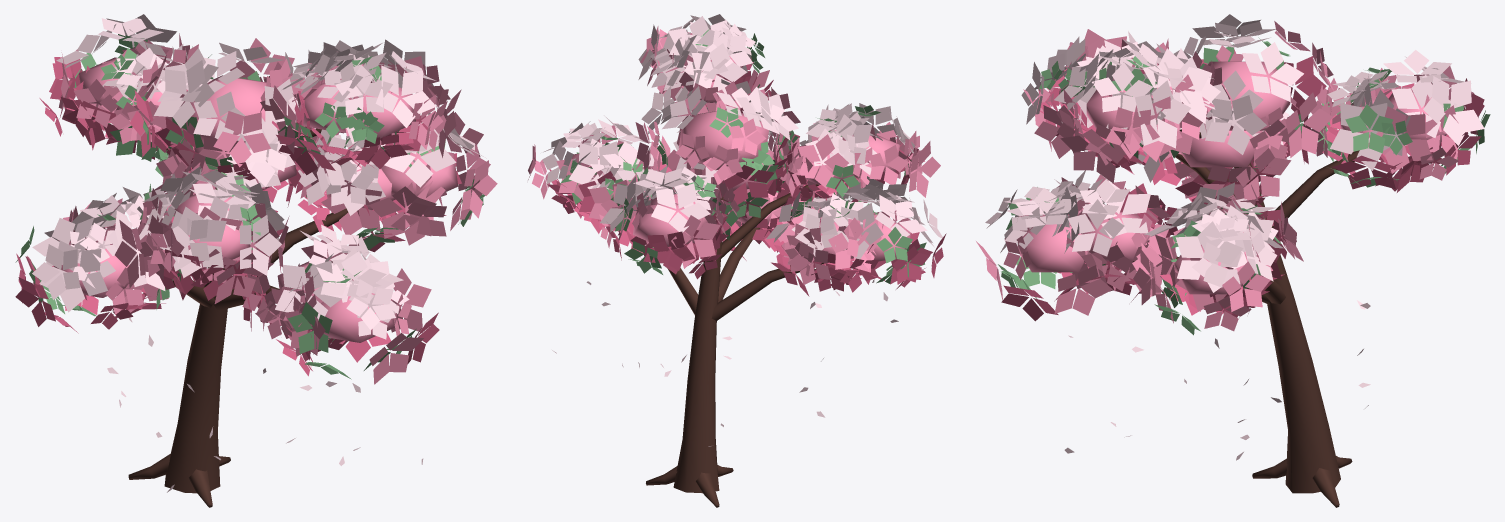
File: sakura_tree_tall.glb
The picture shows the model from 3 angles, left to right: view 1: azimuth 30°, elevation 25°; view 2: azimuth 150°, elevation 25°; view 3: azimuth 270°, elevation 25°; orthographic projection. The views are drawn at different scales.
Parts seen in each view (by area): view 1: Sakura_Tree_Tall_Blossoms_Top, Sakura_Tree_Tall_Blossoms_Mid, Sakura_Tree_Tall_Blossoms_Deep, Sakura_Tree_Tall_CanopyCore, Sakura_Tree_Tall_Trunk, Sakura_Tree_Tall_Spring_Leaves; view 2: Sakura_Tree_Tall_Blossoms_Top, Sakura_Tree_Tall_Blossoms_Mid, Sakura_Tree_Tall_Blossoms_Deep, Sakura_Tree_Tall_Trunk, Sakura_Tree_Tall_Spring_Leaves, Sakura_Tree_Tall_CanopyCore; view 3: Sakura_Tree_Tall_Blossoms_Top, Sakura_Tree_Tall_Blossoms_Mid, Sakura_Tree_Tall_Trunk, Sakura_Tree_Tall_Blossoms_Deep, Sakura_Tree_Tall_CanopyCore, Sakura_Tree_Tall_Spring_Leaves.
Boxes of the visible parts, <box> form: Sakura_Tree_Tall_Blossoms_Top: <box>32,14,486,492</box>; Sakura_Tree_Tall_Blossoms_Mid: <box>58,33,497,384</box>; Sakura_Tree_Tall_Blossoms_Deep: <box>15,50,461,376</box>; Sakura_Tree_Tall_CanopyCore: <box>54,57,458,342</box>; Sakura_Tree_Tall_Trunk: <box>128,128,348,507</box>; Sakura_Tree_Tall_Spring_Leaves: <box>15,34,484,379</box>; Sakura_Tree_Tall_Blossoms_Top: <box>542,14,944,446</box>; Sakura_Tree_Tall_Blossoms_Mid: <box>528,26,940,284</box>; Sakura_Tree_Tall_Blossoms_Deep: <box>547,57,946,296</box>; Sakura_Tree_Tall_Trunk: <box>646,184,824,507</box>; Sakura_Tree_Tall_Spring_Leaves: <box>559,29,926,283</box>; Sakura_Tree_Tall_CanopyCore: <box>565,56,910,262</box>; Sakura_Tree_Tall_Blossoms_Top: <box>985,14,1484,460</box>; Sakura_Tree_Tall_Blossoms_Mid: <box>976,21,1474,331</box>; Sakura_Tree_Tall_Trunk: <box>1133,129,1359,507</box>; Sakura_Tree_Tall_Blossoms_Deep: <box>1001,48,1484,321</box>; Sakura_Tree_Tall_CanopyCore: <box>1017,61,1446,294</box>; Sakura_Tree_Tall_Spring_Leaves: <box>998,37,1490,335</box>.
Bounding box in the file's own units: 8.17 × 7.88 × 7.71.
